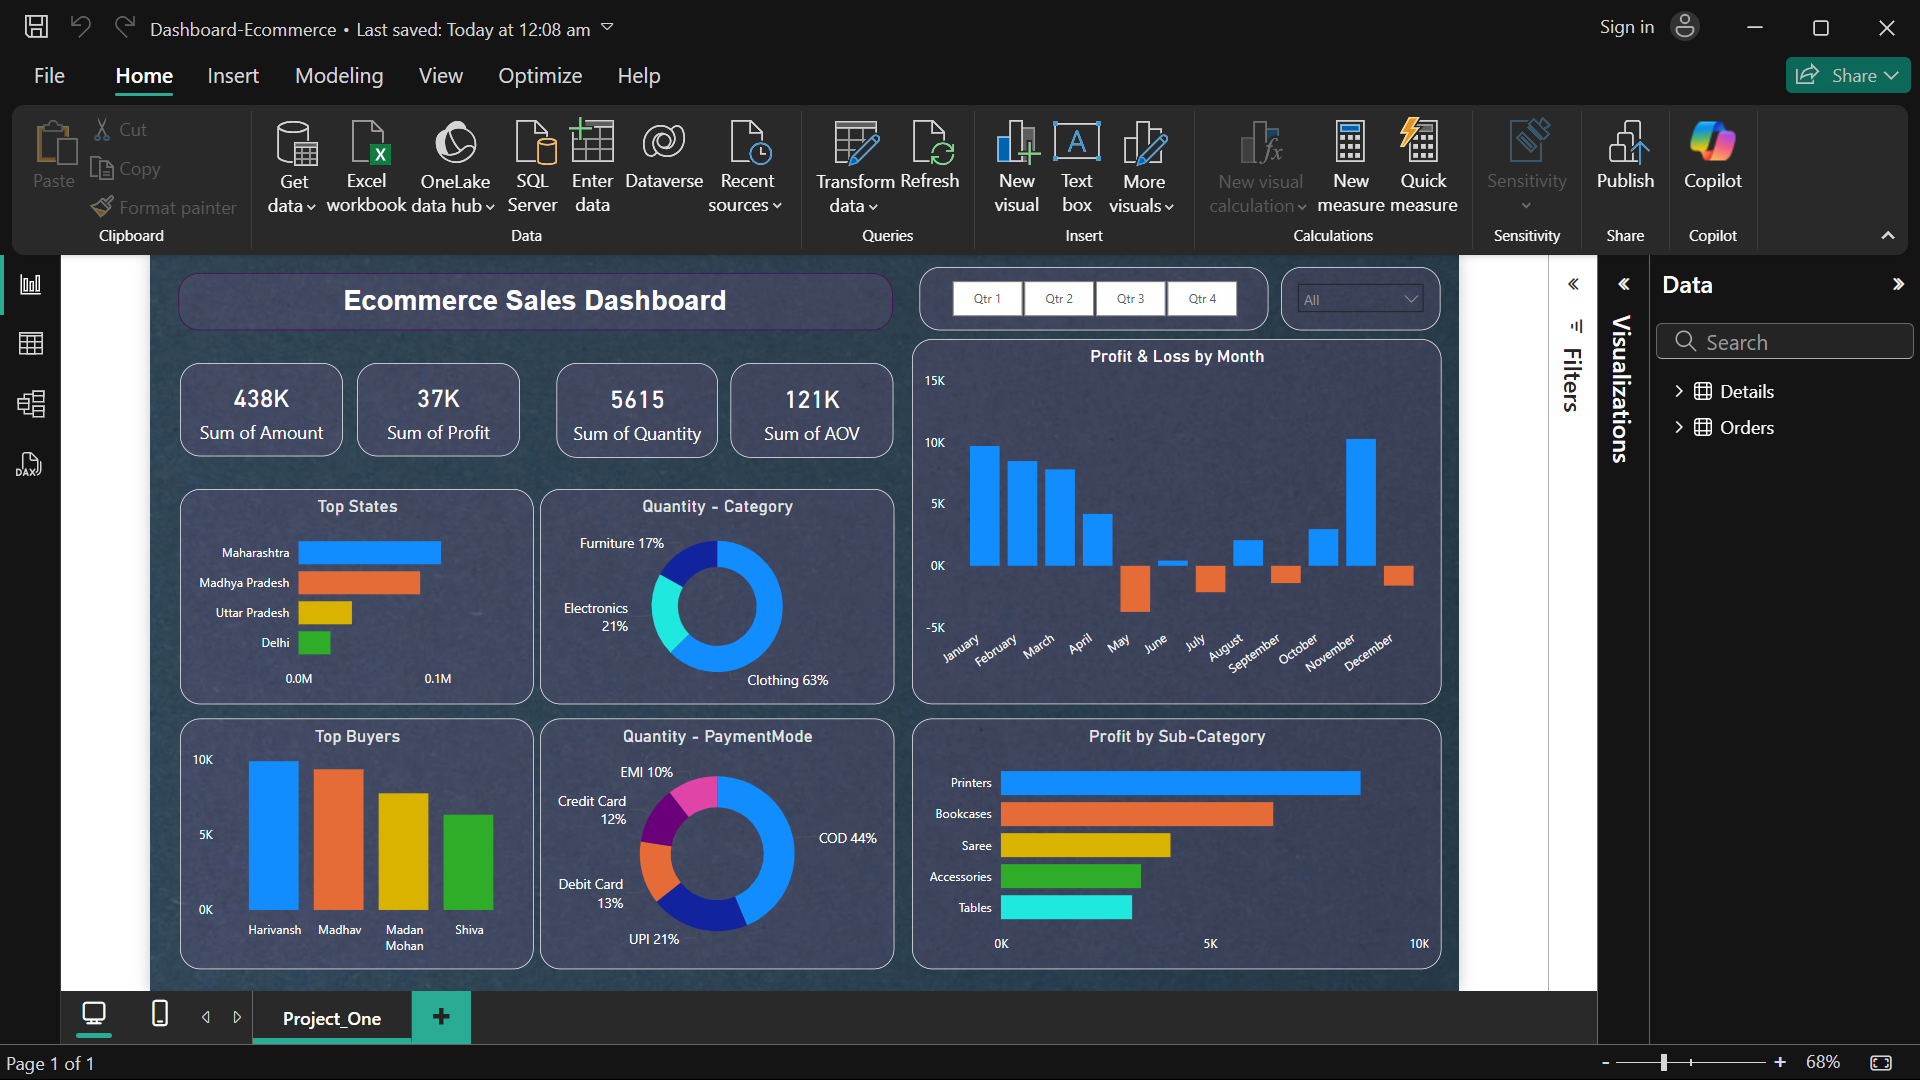

The dashboard page shown, as its layout file describes it:
{"tool":"powerbi","page":{"name":"Project_One","canvas":[1280,720],"ordinal":0},"visuals":[{"type":"textbox","box":[28.3,18.3,698.3,55.8],"z":0},{"type":"columnChart","title":"Profit & Loss by Month","fields":{"Category":["Orders.Order Date.Variation.Date Hierarchy.Month"],"Y":["Details.Profit"]},"box":[745,81.8,517.9,357.4],"z":1000},{"type":"barChart","title":"Profit by Sub-Category","fields":{"Category":["Details.Sub-Category"],"Y":["Details.Profit"]},"box":[745,452.7,517.9,245.3],"z":2000},{"type":"donutChart","title":"Quantity - Category","fields":{"Category":["Details.Category"],"Y":["Details.Quantity"]},"box":[381.6,228.6,346.8,210.5],"z":3000},{"type":"donutChart","title":"Quantity - PaymentMode","fields":{"Y":["Details.Quantity"],"Category":["Details.PaymentMode"]},"box":[381.6,452.7,346.8,245.3],"z":4000},{"type":"card","fields":{"Values":["Details.Amount"]},"box":[28.8,106.2,159.4,91.1],"z":5000},{"type":"card","fields":{"Values":["Details.Profit"]},"box":[201.9,106.2,159.4,91.1],"z":6000},{"type":"card","fields":{"Values":["Details.Quantity"]},"box":[397.7,106.2,157.9,92.6],"z":7000},{"type":"card","fields":{"Values":["Details.AOV"]},"box":[567.7,106.2,159.4,92.6],"z":8000},{"type":"barChart","title":"Top States","fields":{"Category":["Orders.State"],"Y":["Details.Amount"]},"box":[28.8,228.6,346,210.5],"z":9000},{"type":"columnChart","title":"Top Buyers","fields":{"Category":["Orders.CustomerName"],"Y":["Details.Amount"]},"box":[28.8,452.7,346,245.3],"z":10000},{"type":"slicer","fields":{"Values":["Orders.Order Date.Variation.Date Hierarchy.Quarter"]},"box":[752.8,12.1,341.5,62.2],"z":11000},{"type":"slicer","fields":{"Values":["Orders.State"]},"box":[1106.5,12.1,156.3,62.2],"z":12000}]}

Visuals, with their boxes on the page's 1280x720 design canvas (x1, y1, x2, y2). These are canvas units, not pixel positions in the 1920x1080 screenshot, which may show the page scaled, cropped or inside an application window:
textbox: <box>28,18,727,74</box>
"Profit & Loss by Month" columnChart: <box>745,82,1263,439</box>
"Profit by Sub-Category" barChart: <box>745,453,1263,698</box>
"Quantity - Category" donutChart: <box>382,229,728,439</box>
"Quantity - PaymentMode" donutChart: <box>382,453,728,698</box>
card - Details.Amount: <box>29,106,188,197</box>
card - Details.Profit: <box>202,106,361,197</box>
card - Details.Quantity: <box>398,106,556,199</box>
card - Details.AOV: <box>568,106,727,199</box>
"Top States" barChart: <box>29,229,375,439</box>
"Top Buyers" columnChart: <box>29,453,375,698</box>
slicer - Orders.Order Date.Variation.Date Hierarchy.Quarter: <box>753,12,1094,74</box>
slicer - Orders.State: <box>1106,12,1263,74</box>
